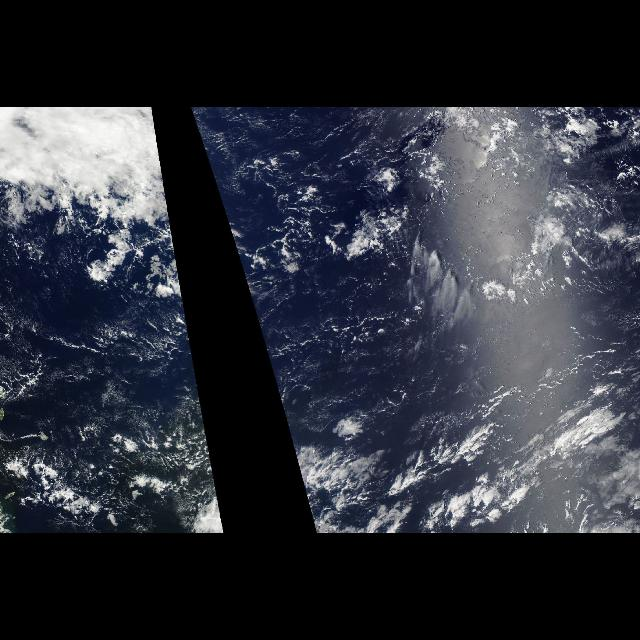Sugar: (192, 110, 412, 352), (1, 292, 210, 446), (418, 291, 640, 429)
